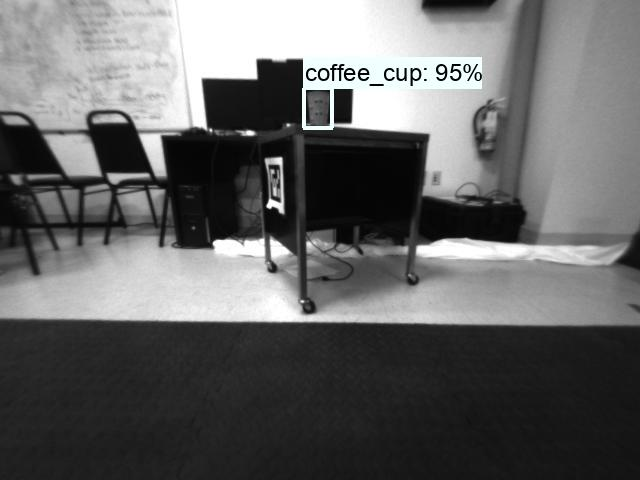coffee_cup: (303, 88, 333, 128)
